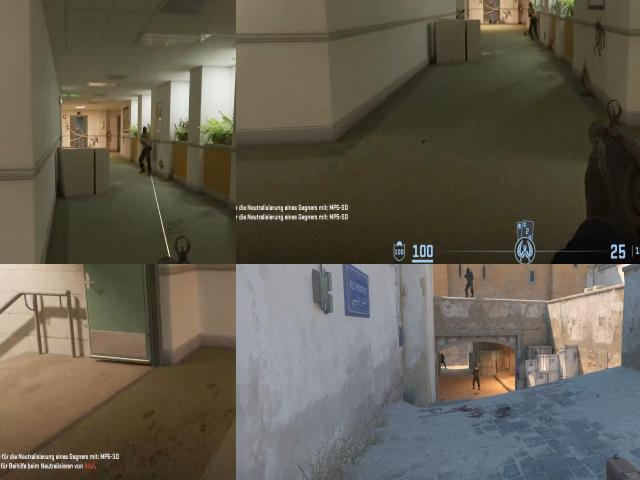CT: (466, 266, 473, 296), (472, 366, 480, 391), (440, 354, 447, 368)
CT-Head: (466, 267, 470, 272), (476, 366, 478, 370), (442, 353, 444, 355)
T: (140, 122, 154, 156), (525, 0, 537, 38)
T-Head: (527, 2, 536, 13), (140, 125, 147, 135)
